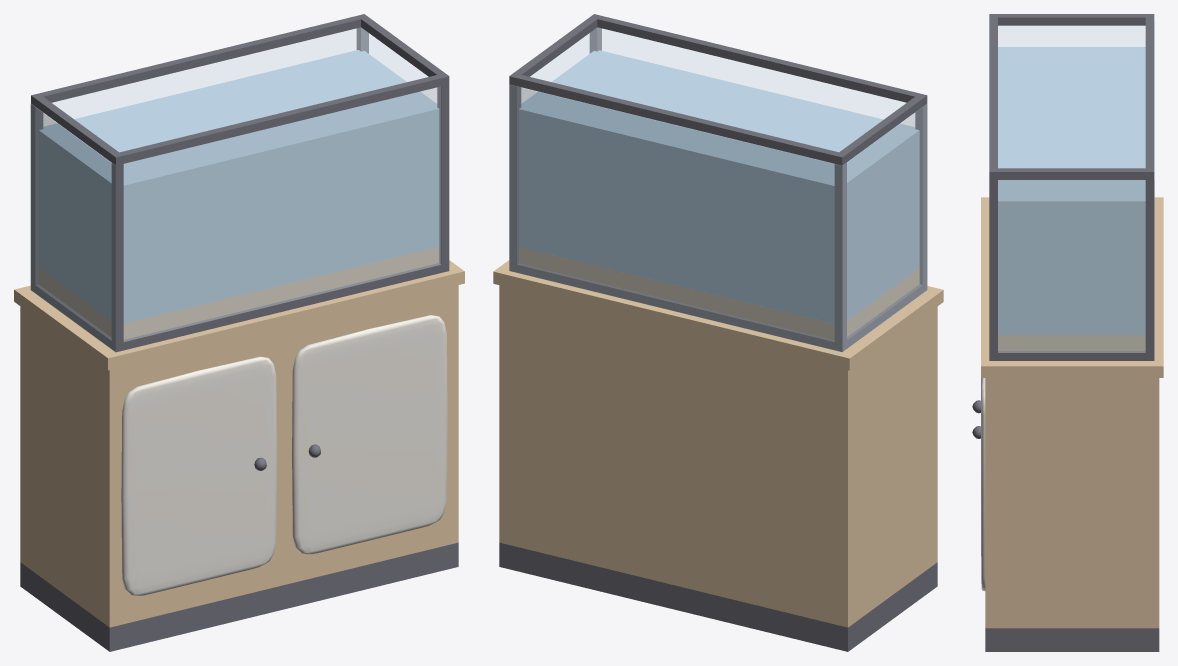
File: companion-animals-and-pet-home-aquarium-with-stand-a2c8272d__20626.glb
3 renders of one model, left to right at view 1: azimuth 30°, elevation 25°; view 2: azimuth 150°, elevation 25°; view 3: azimuth 270°, elevation 25°, orthographic. The views are drawn at different scales.
Visible parts, largest first — view 1: aquarium-with-stand; view 2: aquarium-with-stand; view 3: aquarium-with-stand.
Boxes of the visible parts, x1=… form: aquarium-with-stand: x1=14, y1=14, x2=464, y2=651; aquarium-with-stand: x1=493, y1=14, x2=943, y2=651; aquarium-with-stand: x1=972, y1=14, x2=1163, y2=651.
Bounding box in the file's own units: 0.92 × 1.21 × 0.44.
